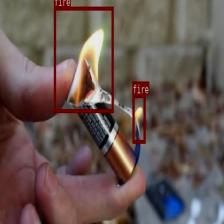fire: (54, 6, 113, 112), (132, 94, 145, 142)
